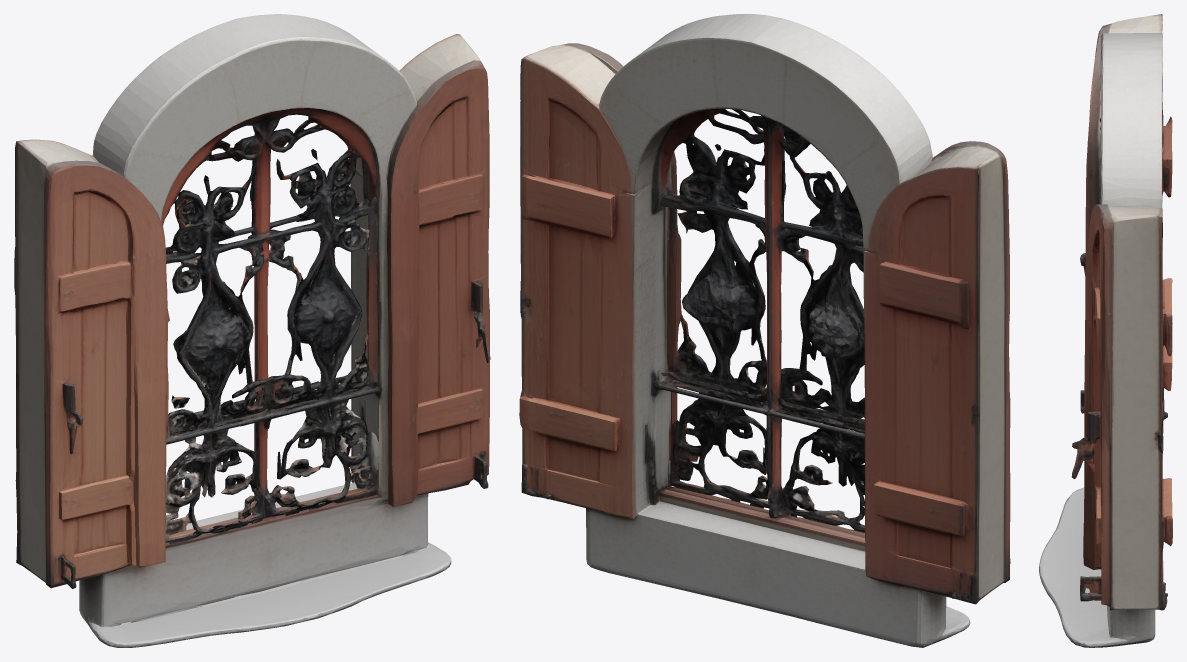
3 views of the same model, side by side, from view 1: azimuth 30°, elevation 25°; view 2: azimuth 150°, elevation 25°; view 3: azimuth 270°, elevation 25° (orthographic). The views are drawn at different scales.
Visible parts, largest first — view 1: world; view 2: world; view 3: world.
Boxes of the visible parts, box(x1,y1,x2,y2) form: world: box(14, 14, 490, 647); world: box(519, 14, 1010, 647); world: box(1039, 14, 1172, 647).
Bounding box in the file's own units: 0.84 × 1 × 0.2333.
1 material, 1 textured.
